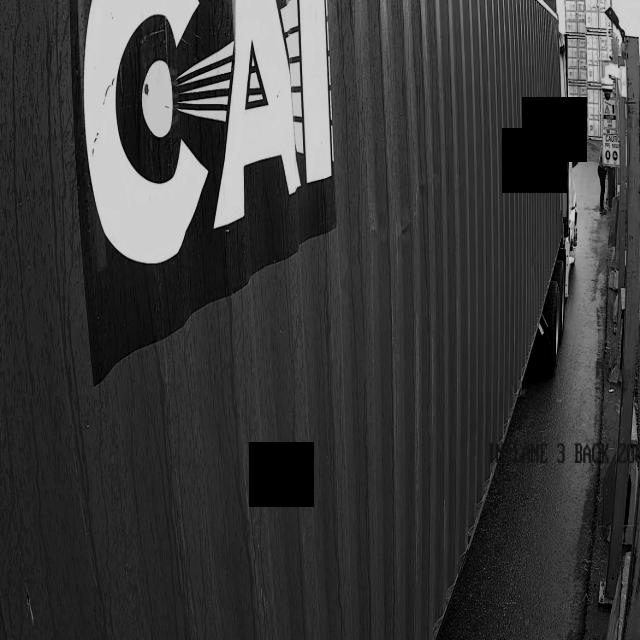container_company_logo: (57, 0, 418, 302)
truck_with_container: (0, 0, 574, 640)
